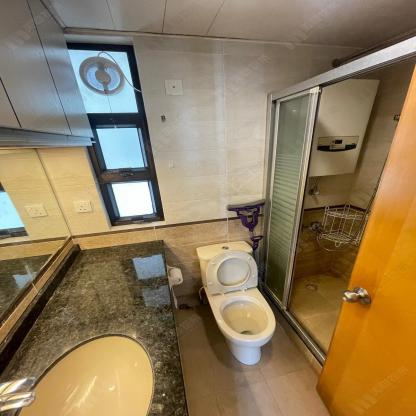Exhaust Fan: (77, 55, 125, 95)
Toilet: (195, 239, 277, 366)
Toilet Sink: (15, 332, 154, 416)
Water Cubicle: (259, 34, 416, 386)
Water Heater: (307, 77, 382, 176)
